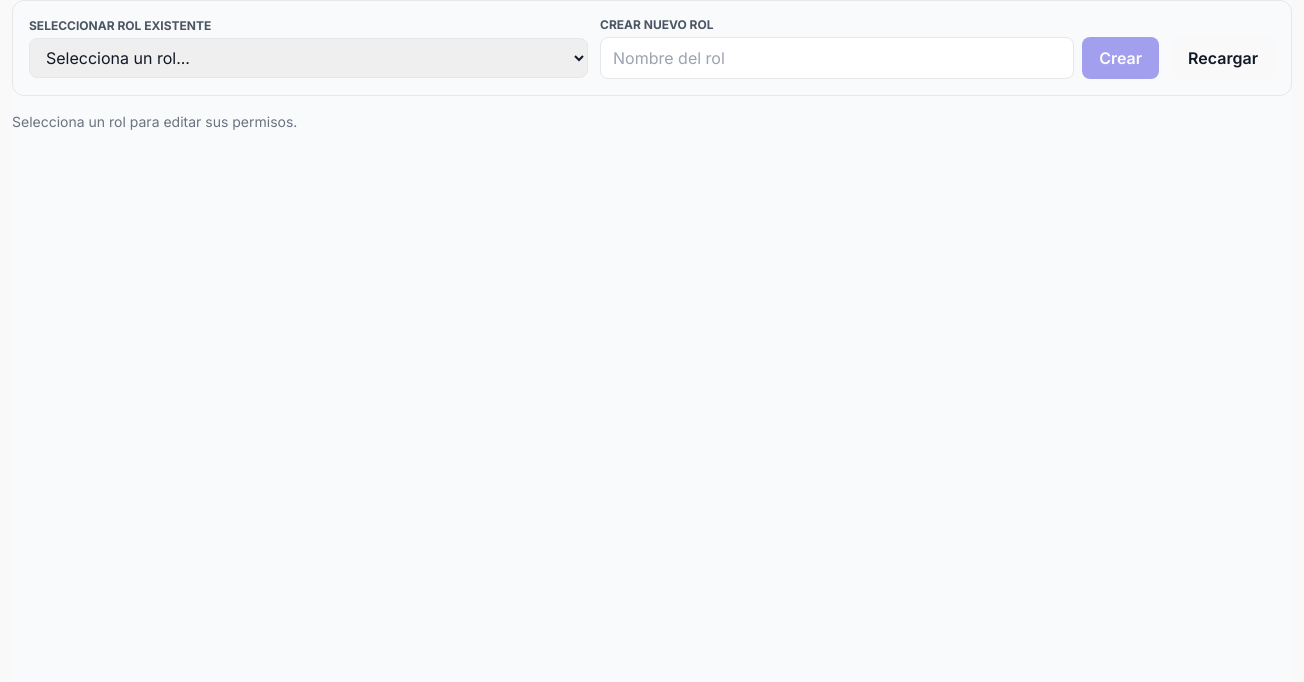
RolesPermissionsSettings — resource scopes (catalog-driven) › two roles with the identical name but different resource_scopes render according to their own data, not their shared name
This screenshot has width=1304, height=682.
Select "cajero_dia" in the dropdown labelled "Seleccionar Rol Existente" at (308, 58), box [29,38,588,78]
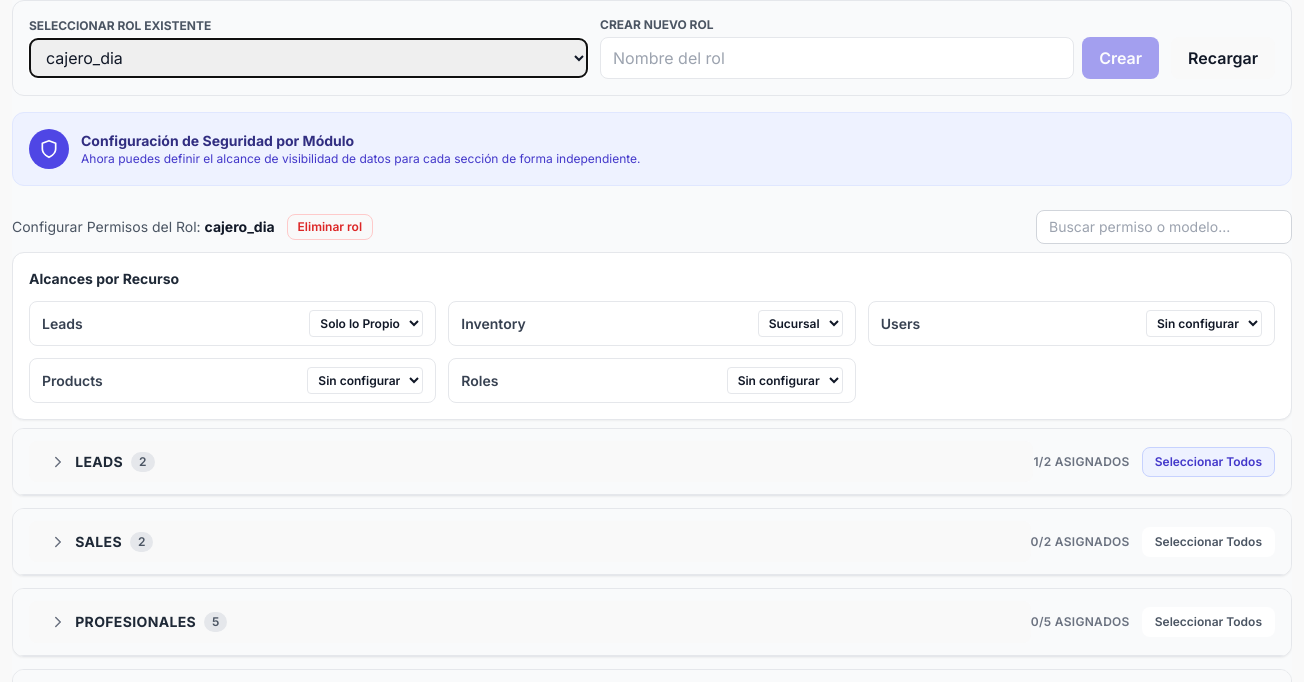
Check: the dropdown in the row of "inventory" shows "Sucursal", box [758,310,843,337]
Select "cajero_dia" in the dropdown labelled "Seleccionar Rol Existente" at (308, 58), box [29,38,588,78]
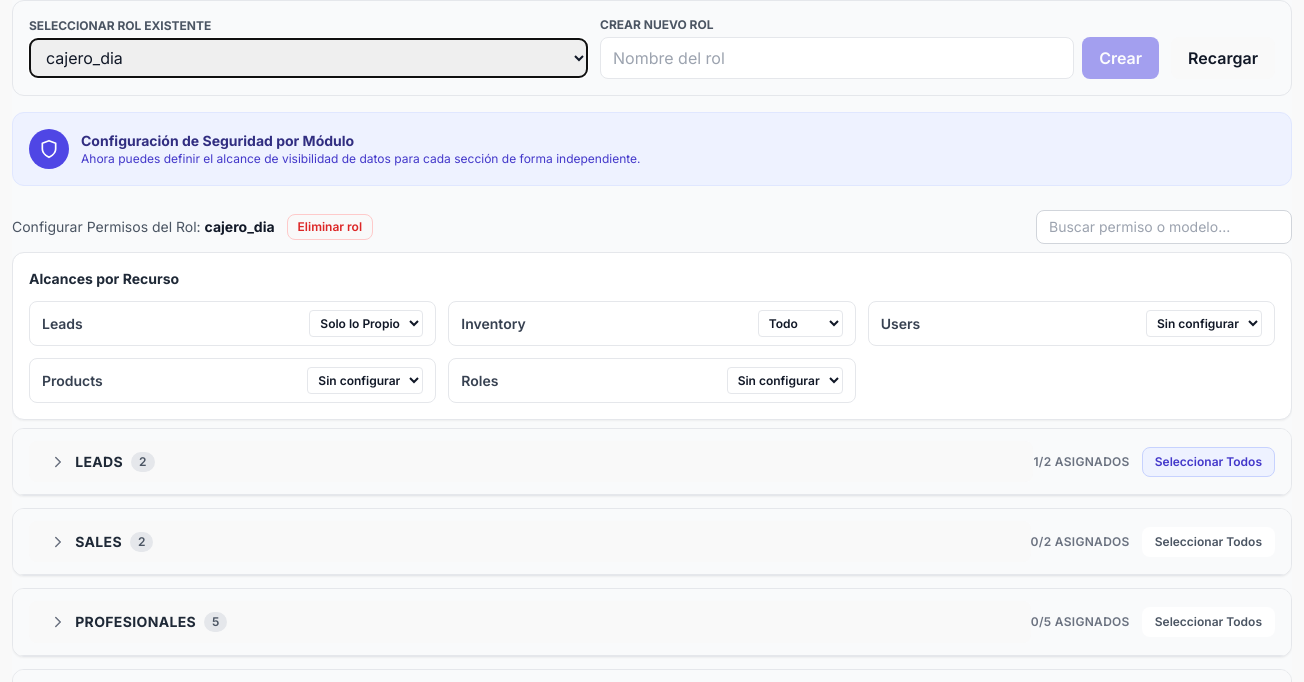
Check: the dropdown in the row of "inventory" shows "Todo", box [758,310,843,337]
